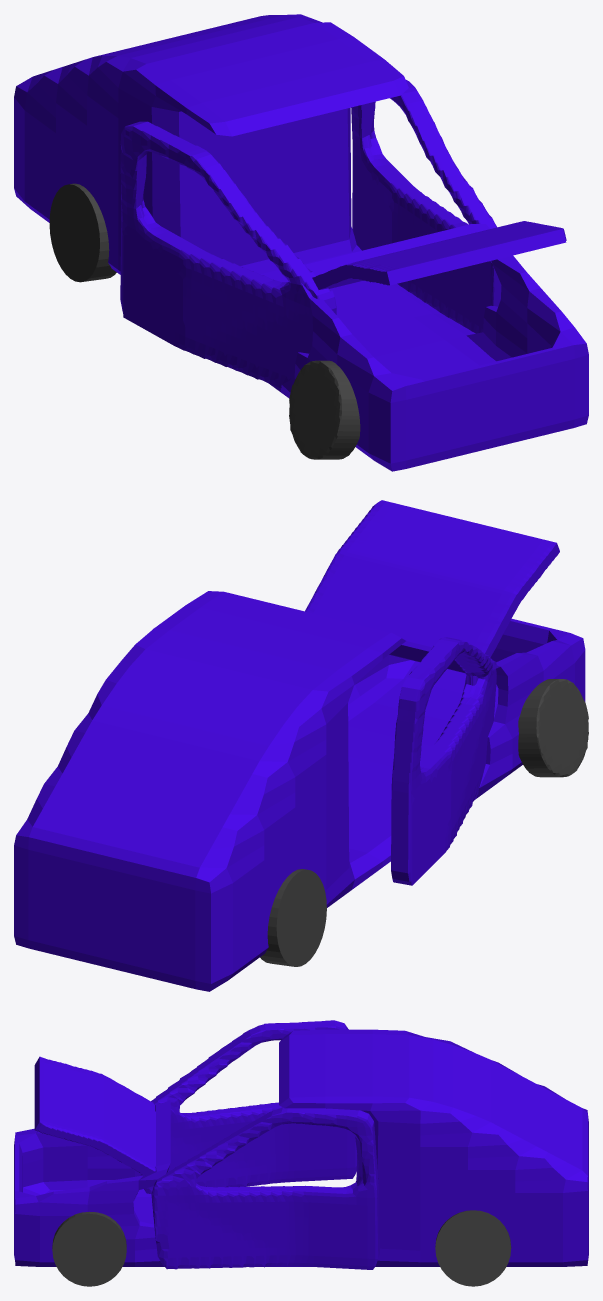
Rendered from tree.glb.
3 views of the same model, one above another, from view 1: azimuth 30°, elevation 25°; view 2: azimuth 150°, elevation 25°; view 3: azimuth 270°, elevation 25° (orthographic). The views are drawn at different scales.
Visible parts, largest first — view 1: 立方体, 立方体.002, 立方体.010, 立方体.008, 円柱.002, 円柱.001; view 2: 立方体, 立方体.008, 立方体.002, 円柱.002, 円柱.001; view 3: 立方体, 立方体.010, 立方体.002, 立方体.008, 円柱, 円柱.003.
Part boxes in pixels (left/top/right/bottom): 立方体: left=14, top=14, right=588, bottom=471; 立方体.002: left=120, top=121, right=336, bottom=387; 立方体.010: left=351, top=80, right=501, bottom=333; 立方体.008: left=312, top=221, right=566, bottom=289; 円柱.002: left=289, top=360, right=360, bottom=459; 円柱.001: left=49, top=183, right=116, bottom=282; 立方体: left=14, top=591, right=585, bottom=991; 立方体.008: left=305, top=500, right=559, bottom=672; 立方体.002: left=391, top=637, right=496, bottom=885; 円柱.002: left=518, top=679, right=588, bottom=777; 円柱.001: left=260, top=869, right=326, bottom=966; 立方体: left=14, top=1029, right=588, bottom=1266; 立方体.010: left=151, top=1107, right=379, bottom=1269; 立方体.002: left=140, top=1020, right=357, bottom=1193; 立方体.008: left=34, top=1056, right=155, bottom=1176; 円柱: left=435, top=1210, right=511, bottom=1286; 円柱.003: left=52, top=1211, right=126, bottom=1286.
Size of the model in its own units: 6.65 by 5.38 by 15.29.
